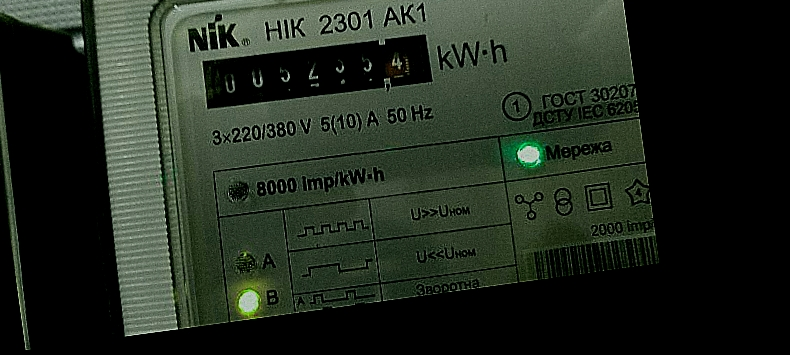0: (219, 68, 239, 96), (248, 62, 265, 89)
2: (302, 54, 319, 81)
3: (330, 48, 347, 75)
4: (387, 44, 405, 72)
5: (357, 45, 375, 74), (274, 58, 293, 85)
screen: (190, 19, 445, 121)
